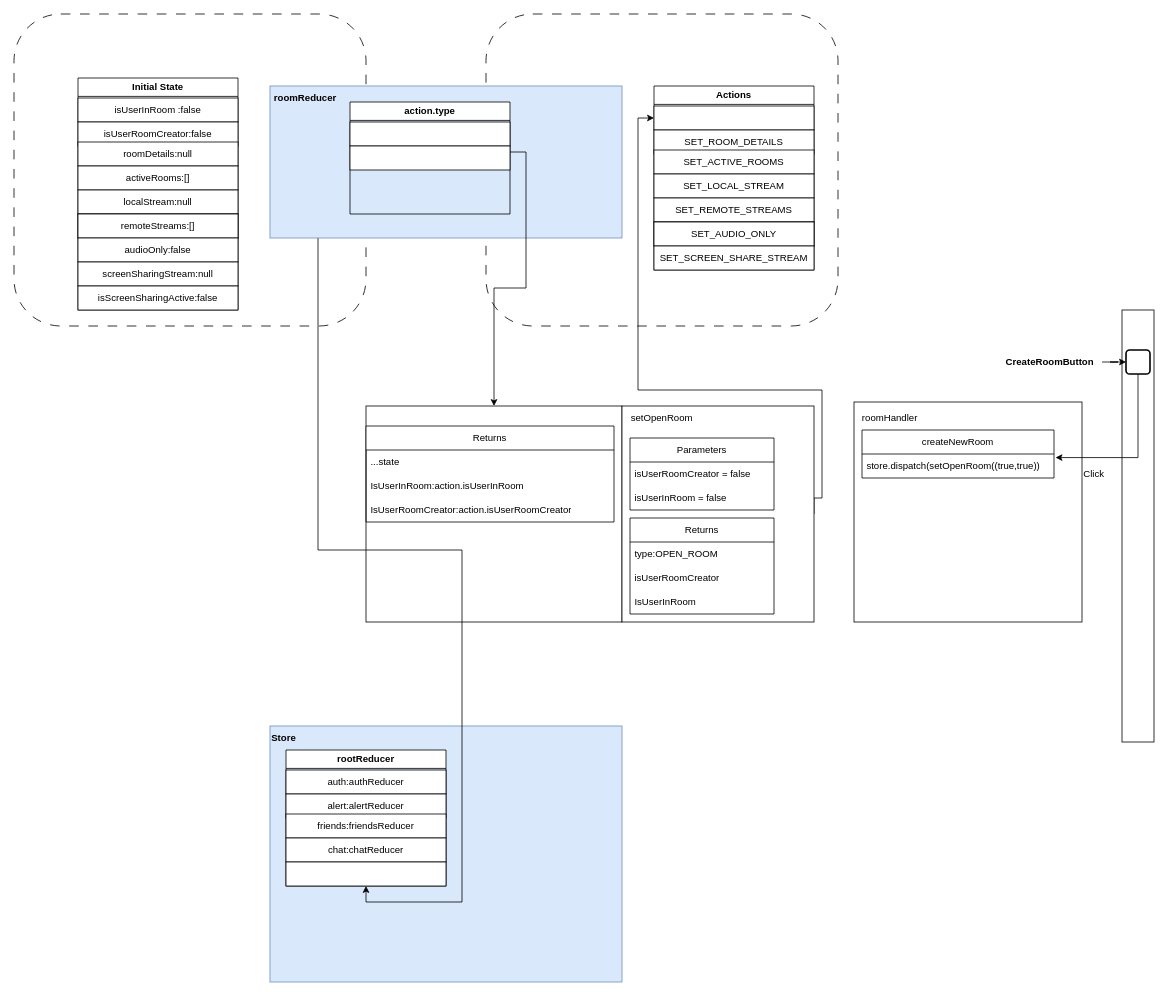
Image size: 1168x996. Some labels were removed from this diagram. The centre of each missing label's shape, as x and y in pixels:
"default: OPEN_ROOM" belongs at pixel 429 157.
"default: state" belongs at pixel 429 133.
"OPEN_ROOM" belongs at pixel 733 117.
"room:roomReducer" belongs at pixel 365 873.
